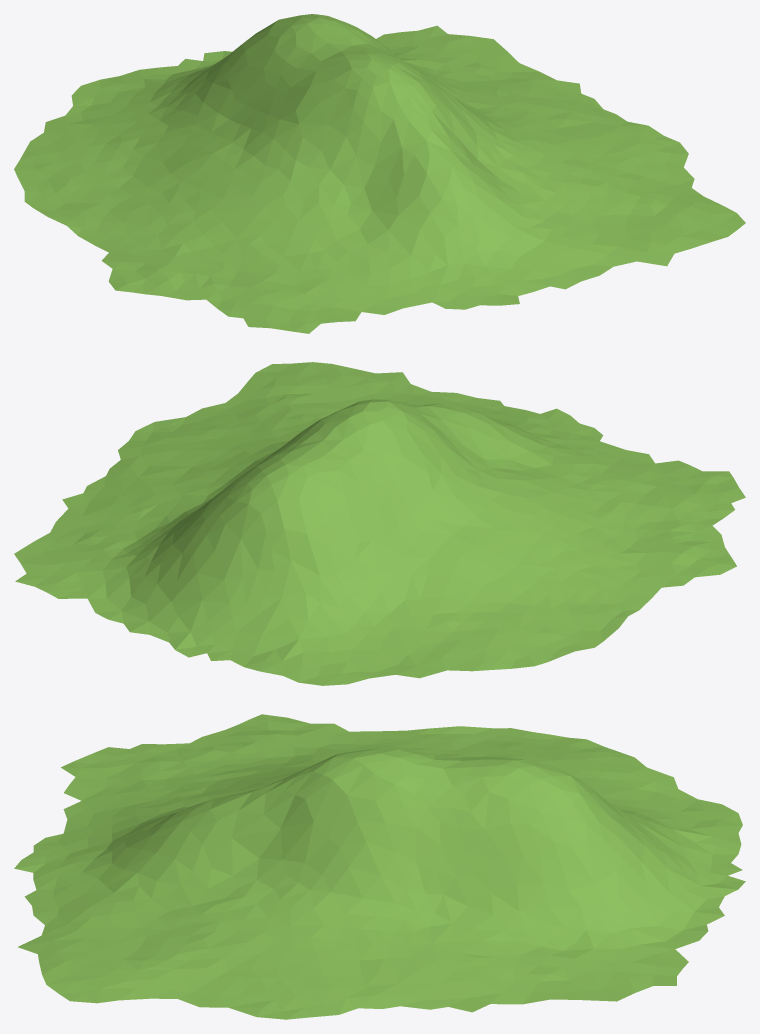
The model's file is MT_Mountain_L_a_08_LOD.fbx.
3 renders of one model, top to bottom at view 1: azimuth 30°, elevation 25°; view 2: azimuth 150°, elevation 25°; view 3: azimuth 270°, elevation 25°, orthographic. The views are drawn at different scales.
Parts seen in each view (by area): view 1: MT_Mountain_L_a_08_LOD0; view 2: MT_Mountain_L_a_08_LOD0; view 3: MT_Mountain_L_a_08_LOD0.
Part boxes in pixels (box(x1,y1,x2,y2)): MT_Mountain_L_a_08_LOD0: box(14, 14, 745, 333); MT_Mountain_L_a_08_LOD0: box(14, 362, 745, 685); MT_Mountain_L_a_08_LOD0: box(14, 714, 745, 1019).
Size of what is drawn, in the model's own units: 9375 by 1823 by 9512.
